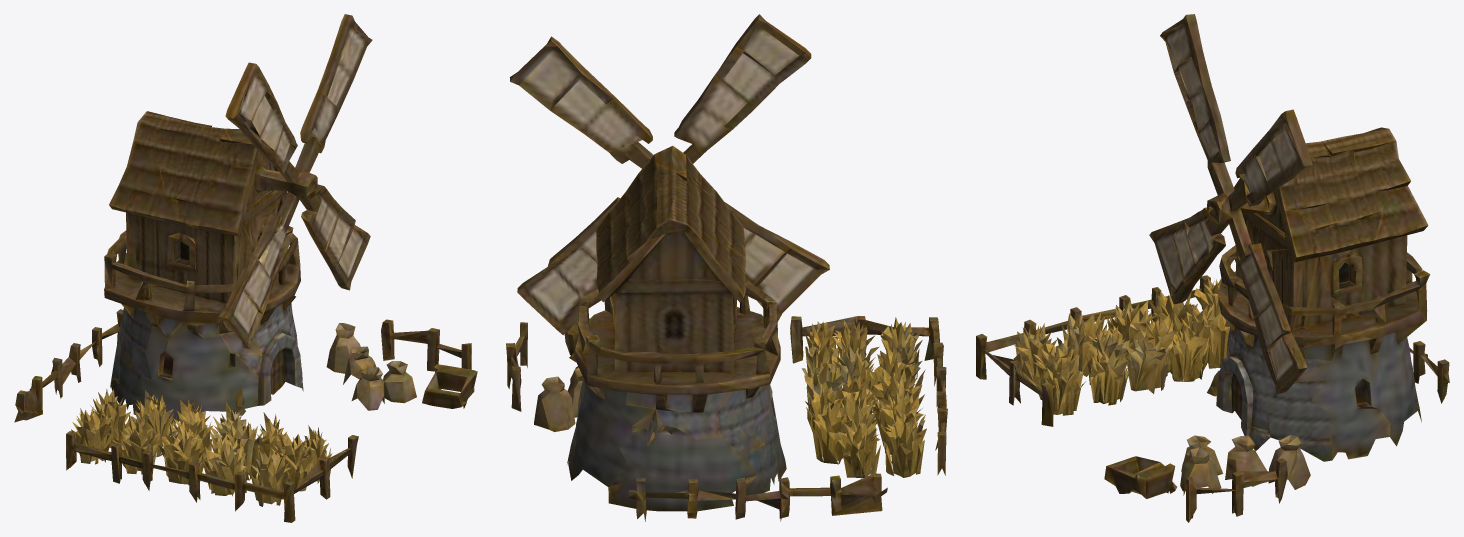
Rendered from mill.glb.
3 renders of one model, left to right at view 1: azimuth 30°, elevation 25°; view 2: azimuth 150°, elevation 25°; view 3: azimuth 270°, elevation 25°, orthographic. The views are drawn at different scales.
Size of the model in its own units: 1.92 by 1.73 by 1.87.
1 material, 1 textured.
